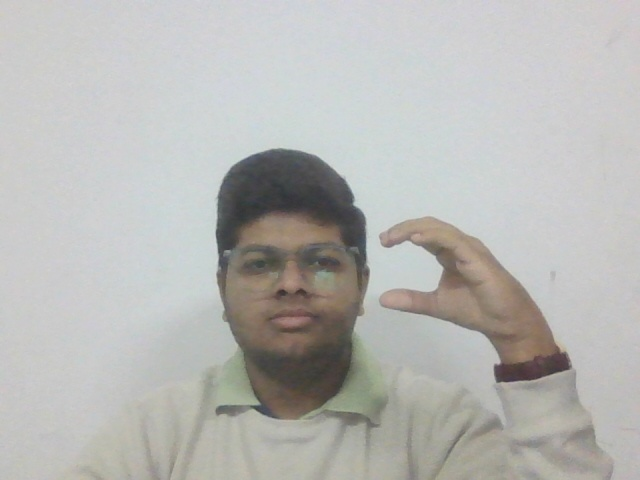C: (376, 213, 546, 338)
